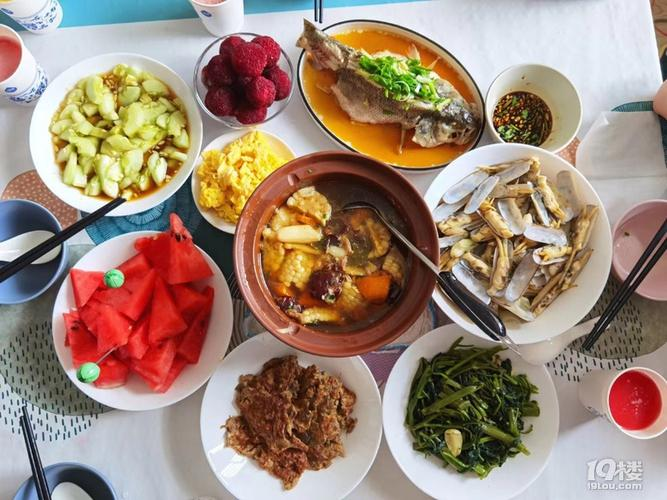food: (231, 144, 435, 350), (423, 137, 609, 337), (57, 223, 230, 403), (28, 38, 203, 214), (383, 317, 557, 490), (197, 334, 381, 488), (303, 15, 487, 165), (194, 122, 304, 229), (191, 26, 295, 124), (480, 53, 580, 153)
